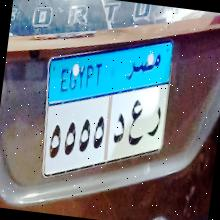5: (46, 120, 63, 163), (90, 111, 108, 151), (76, 116, 93, 157), (61, 120, 78, 159)
ain: (126, 96, 146, 150)
daal: (110, 103, 128, 148)
raa: (146, 101, 165, 143)
